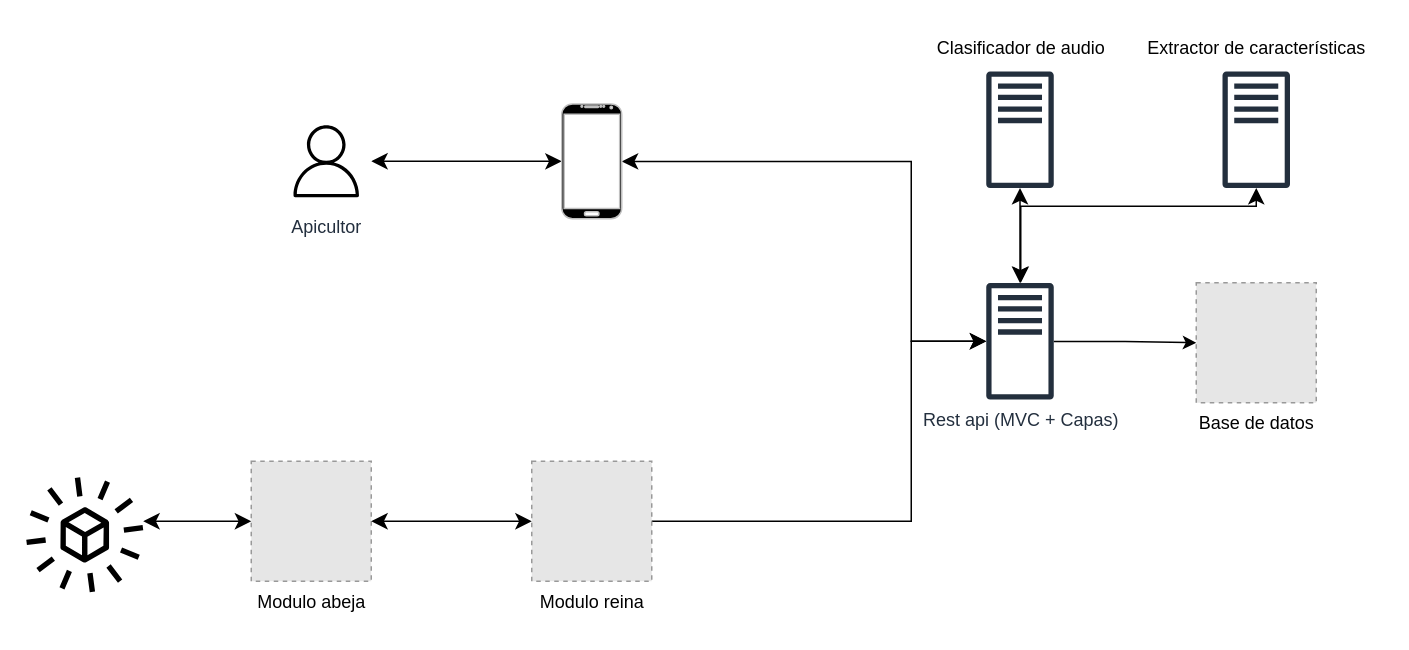
Image size: 1409x650. Some labels were removed from this diagram. Grey dashed boxes stand in for pictures. Here are the shapes that lost their labels. From the top down, the centre of each, then its label:
At pixel 591 160: "App android".
At pixel 84 534: "Colmena".
